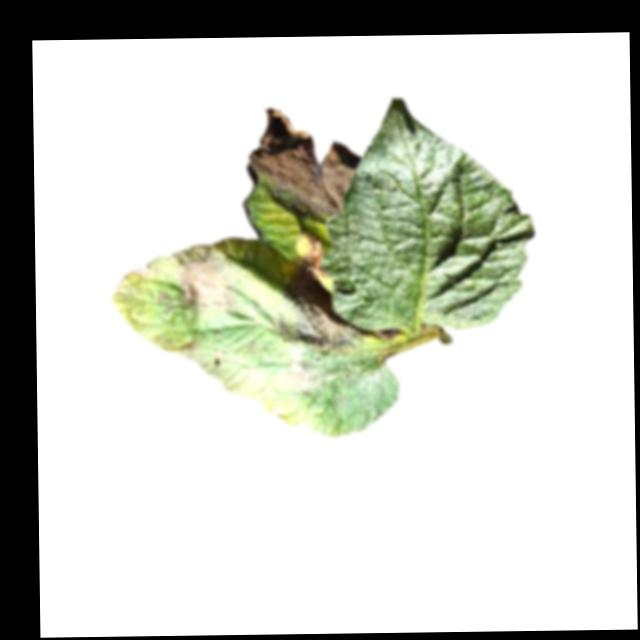Late_blight: (246, 105, 359, 225), (275, 273, 364, 356), (172, 241, 238, 311), (276, 357, 341, 397), (297, 227, 328, 276), (135, 258, 157, 283), (264, 400, 288, 419)
